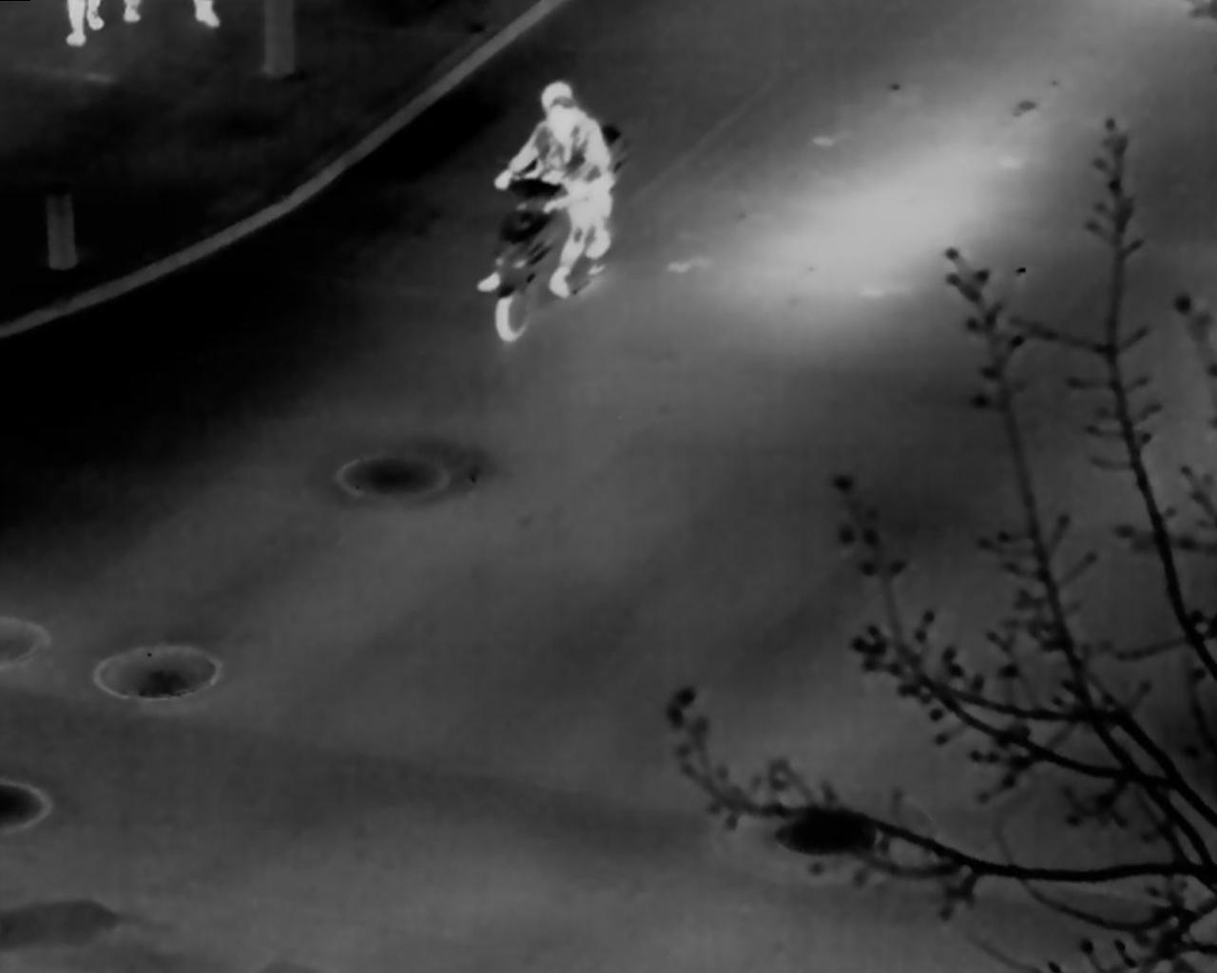person: (483, 81, 619, 297), (522, 97, 597, 298)
